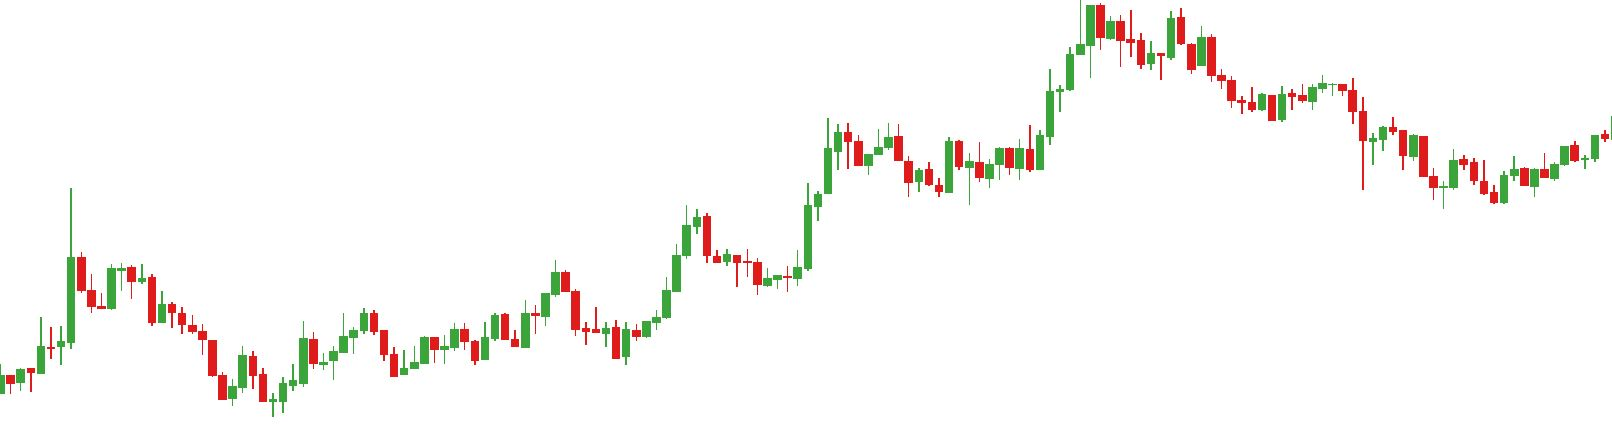buy: (219, 357, 288, 423)
